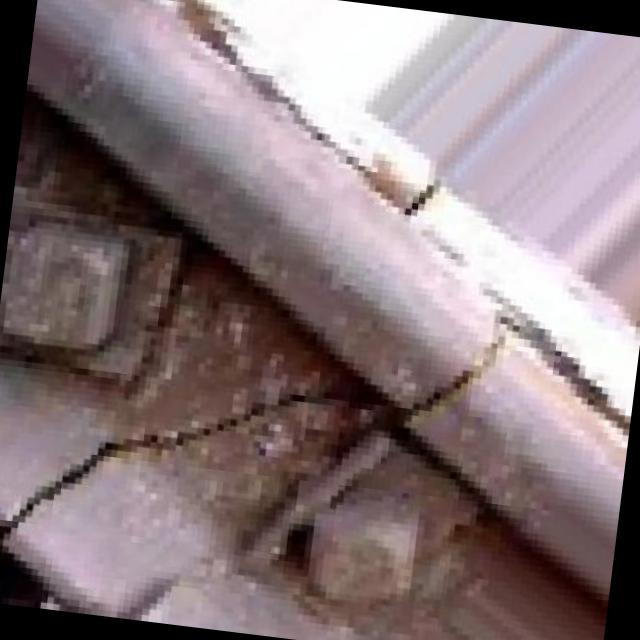defective: (0, 103, 568, 640)
